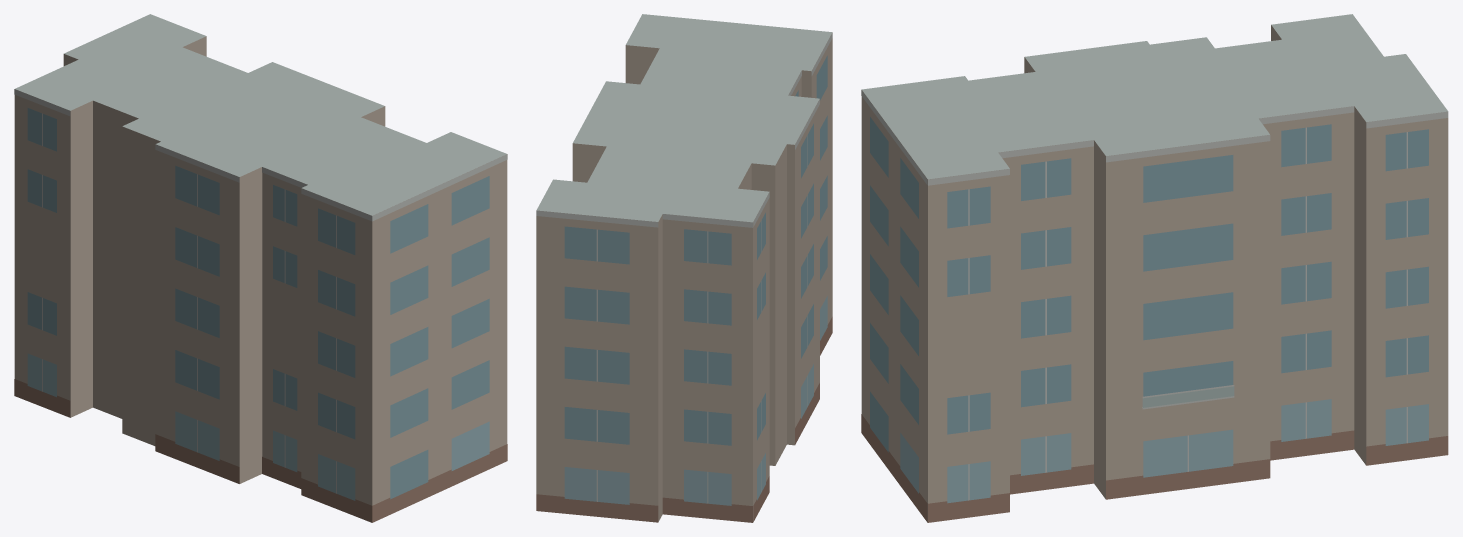
Rendered from survey-upis-33013550.glb.
3 views of the same model, side by side, from view 1: azimuth 30°, elevation 25°; view 2: azimuth 150°, elevation 25°; view 3: azimuth 270°, elevation 25° (orthographic). The views are drawn at different scales.
Parts seen in each view (by area): view 1: survey-upis-33013550.tmp; view 2: survey-upis-33013550.tmp; view 3: survey-upis-33013550.tmp.
Part boxes in pixels (left/top/right/bottom): survey-upis-33013550.tmp: left=14, top=14, right=507, bottom=522; survey-upis-33013550.tmp: left=536, top=14, right=832, bottom=522; survey-upis-33013550.tmp: left=861, top=14, right=1448, bottom=522.
Bounding box in the file's own units: 13.69 × 13.25 × 20.53.
